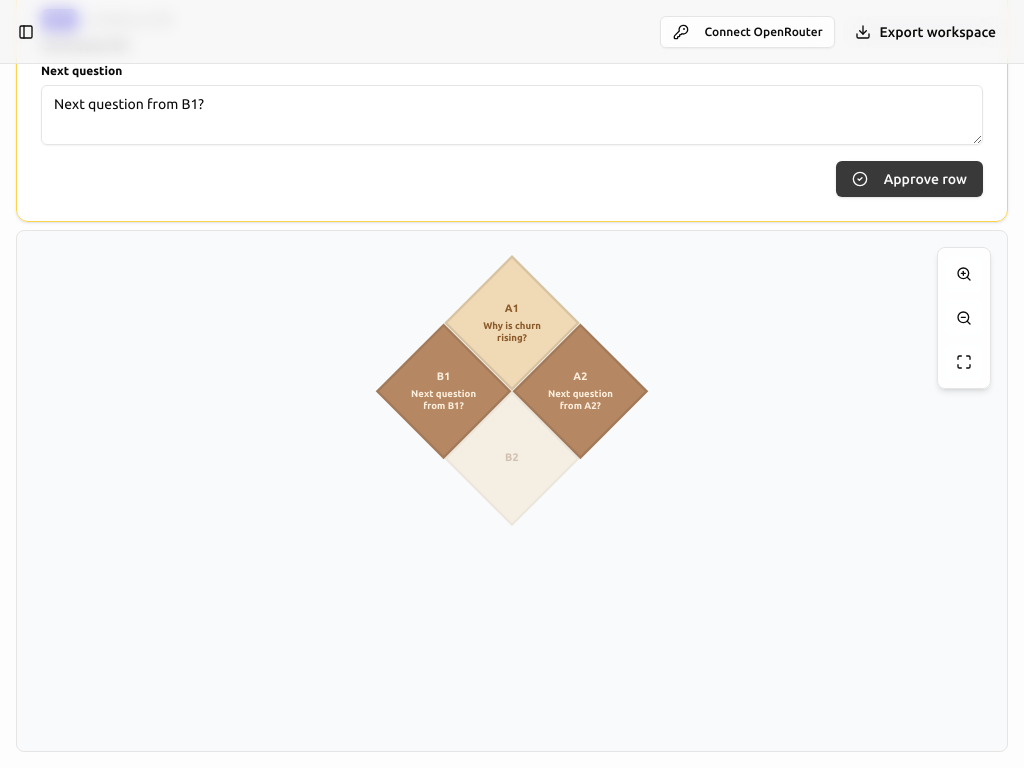
Test case: workspace apps render › a block shows the panel discussion behind its conclusion
The width and height of the screenshot is (1024, 768).
(page scrolled)
Step 1. Click the button with aria-label "Block A2 (edge)" → {"x": 580, "y": 391}, box x1=512 y1=323 x2=648 y2=459
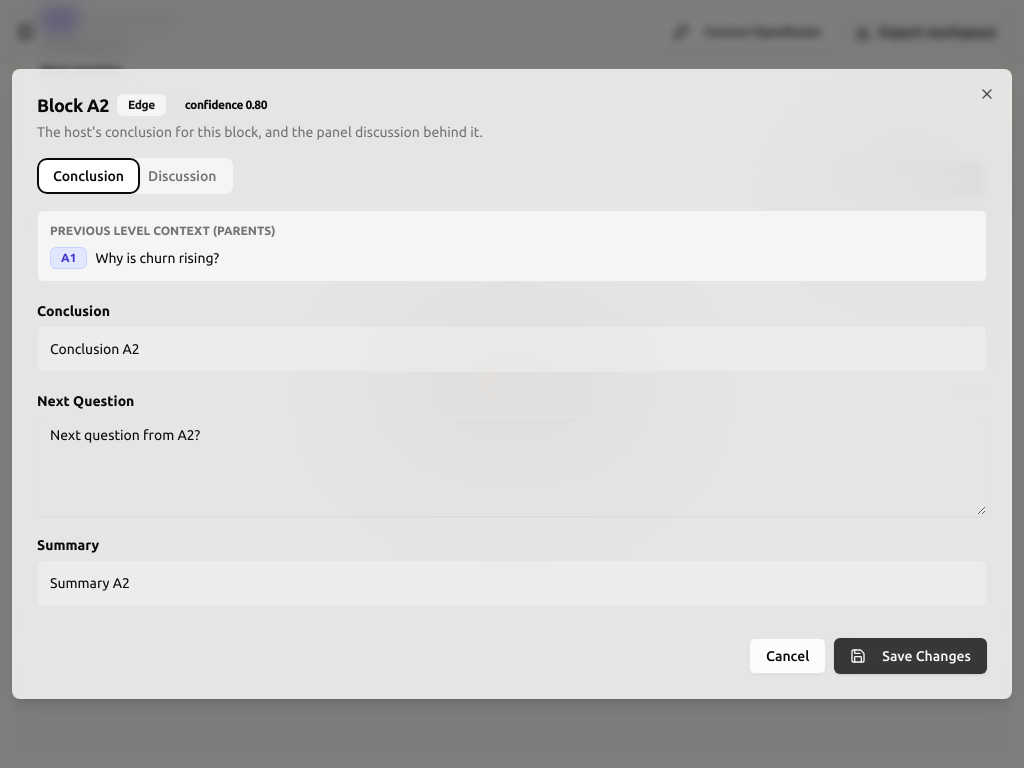
Step 2. Click the tab "Discussion" → {"x": 182, "y": 176}, box x1=136 y1=162 x2=228 y2=190
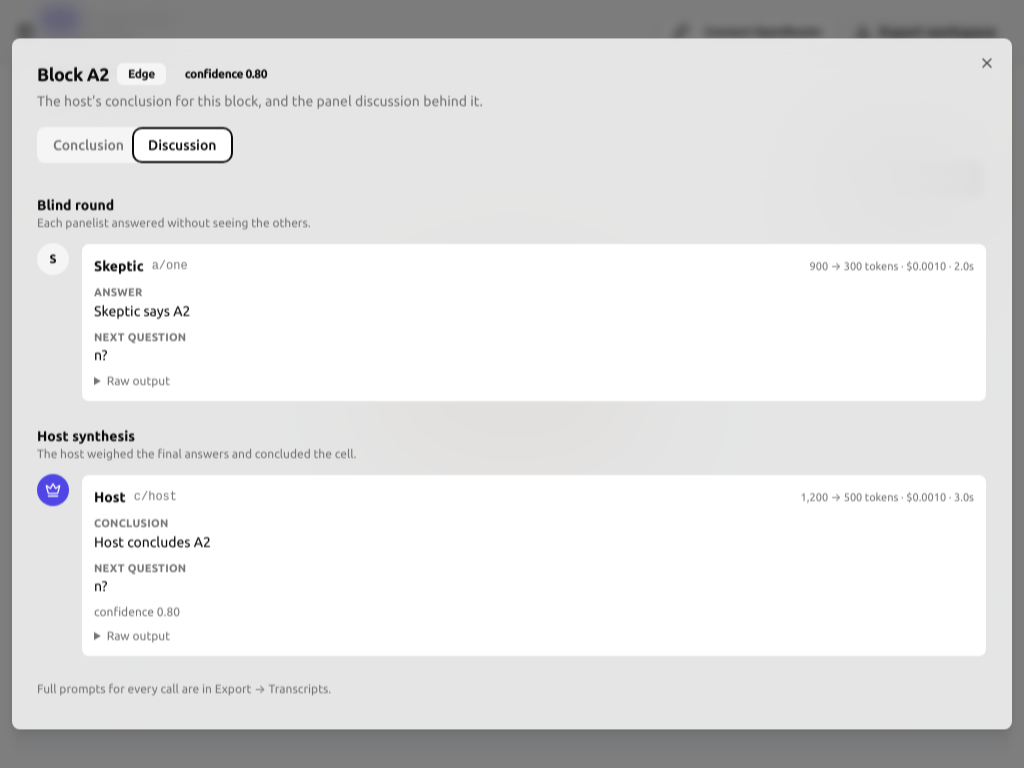
Expected: the text "Skeptic says A2" is shown, x1=94 y1=303 x2=190 y2=319
Expected: the text "Host concludes A2" is shown, x1=94 y1=534 x2=211 y2=550
Expected: the heading "Blind round" is shown, x1=37 y1=197 x2=114 y2=213
